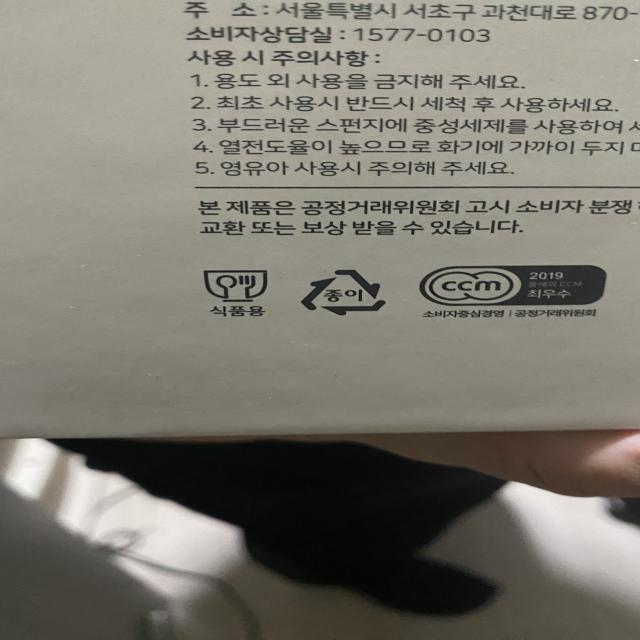Paper: (300, 267, 388, 318)
